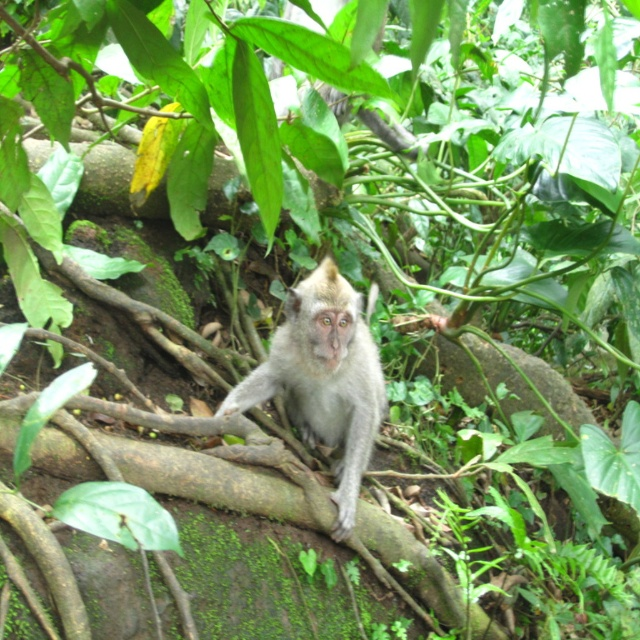Monkey: (204, 269, 383, 527)
